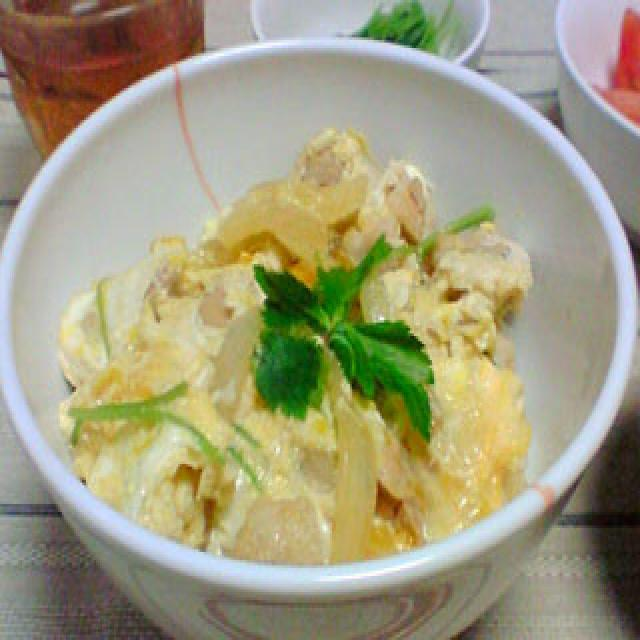米饭主食: (0, 16, 636, 640)
